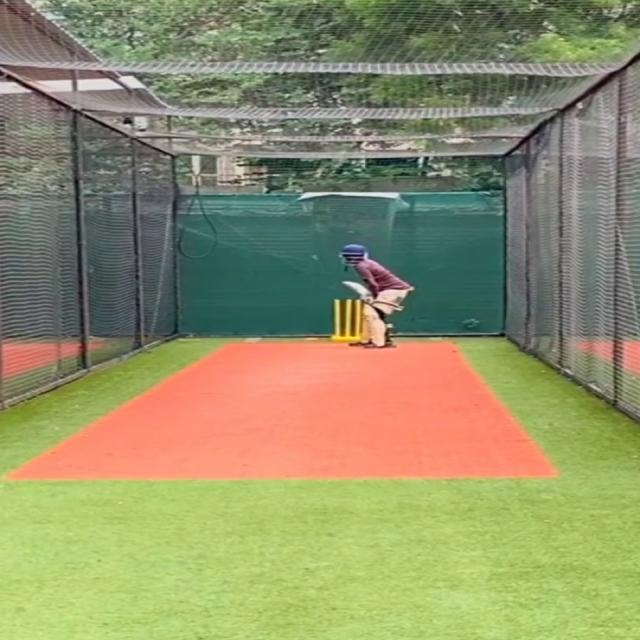stump: (330, 297, 362, 341)
